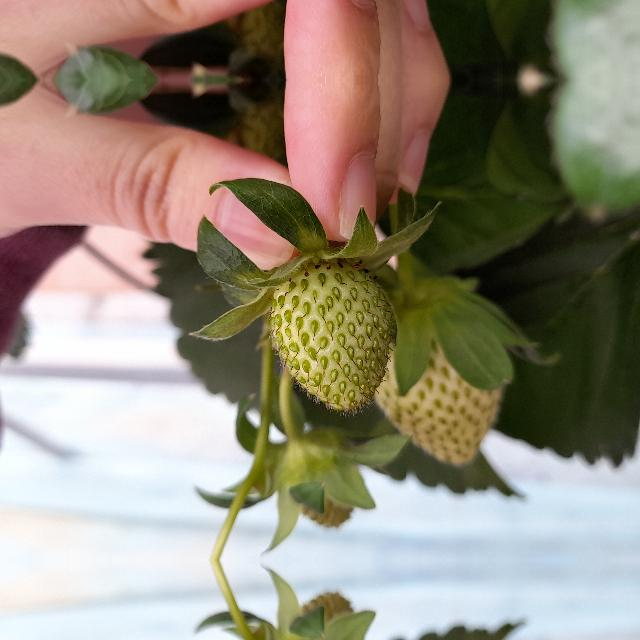Health_25: (267, 262, 397, 416)
